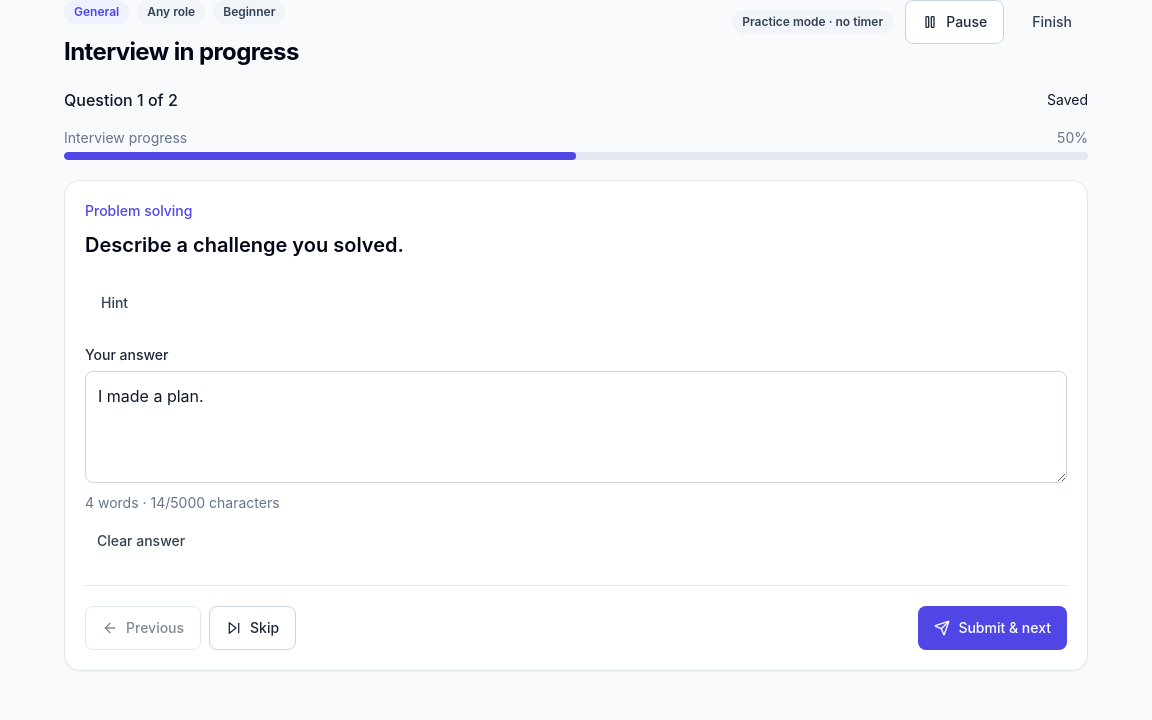
InterviewPage › asks before finishing and shows the answer review on completion
This screenshot has width=1152, height=720.
Click the button "Finish" at (1052, 22), box [1016,0,1088,44]
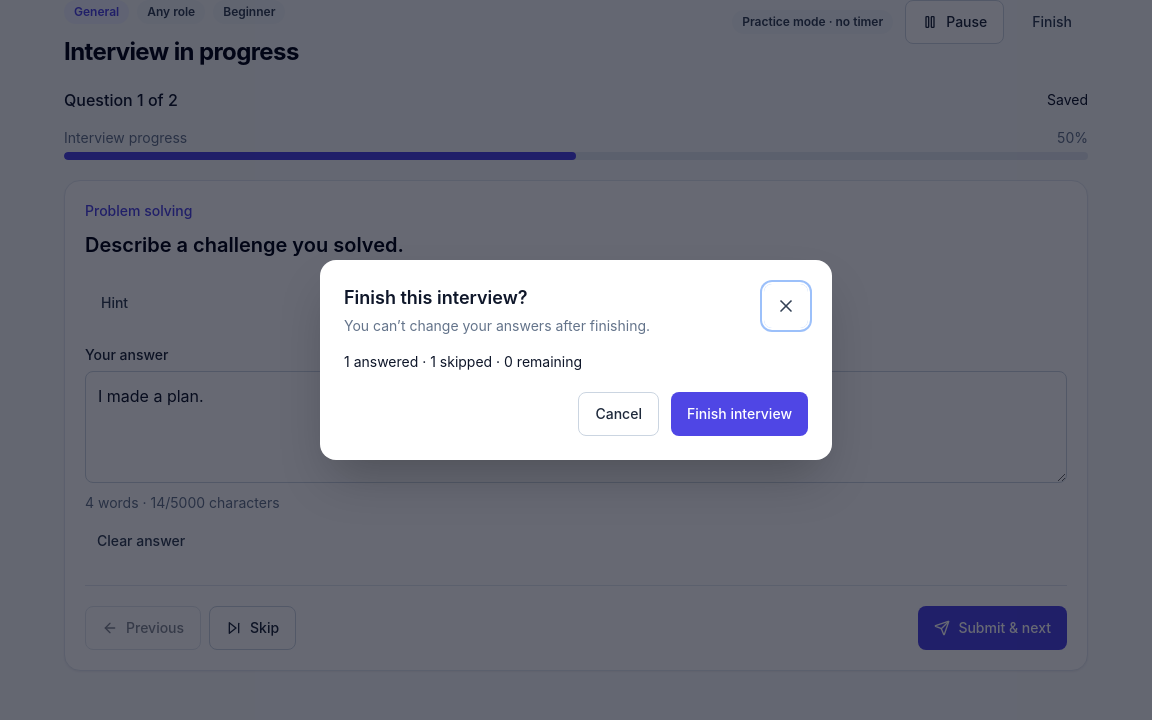
Expected: the dialog "Finish this interview?" shows "1 answered · 1 skipped · 0 remaining", [344,353,582,370]
Click the button "Finish interview" at (740, 414), box [671,392,808,436]
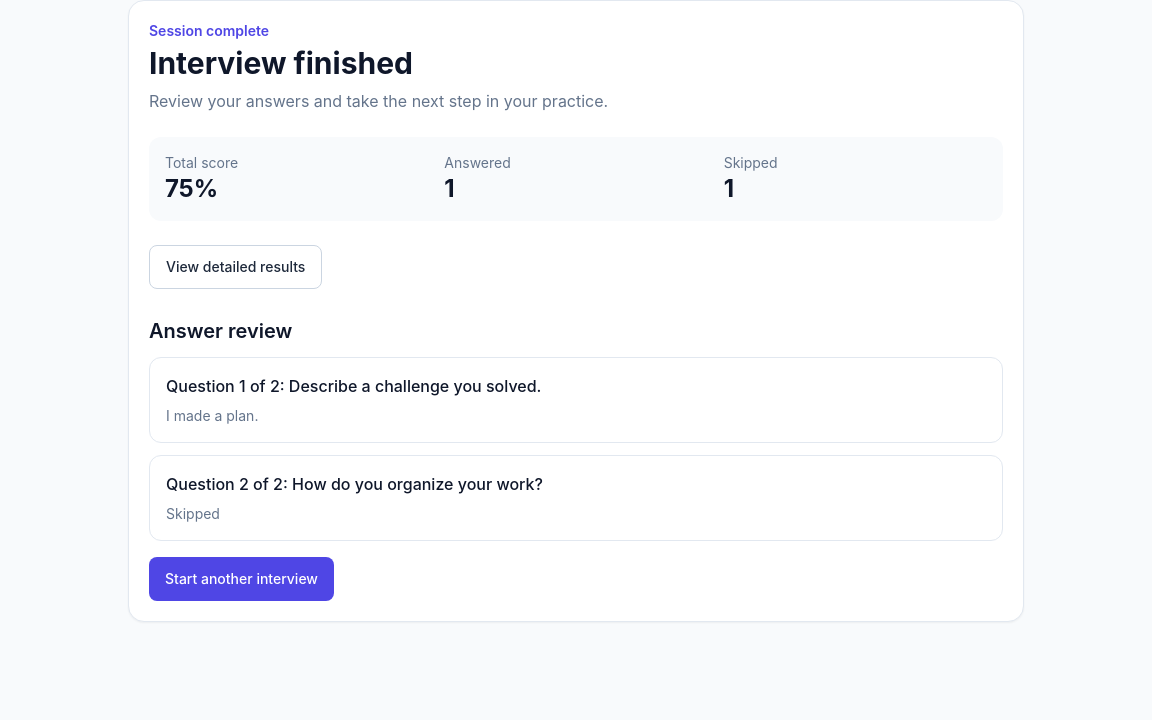
Expected: the heading "Interview finished" is shown, [149,45,413,81]
Expected: the text "75%" is shown, [165,174,218,203]
